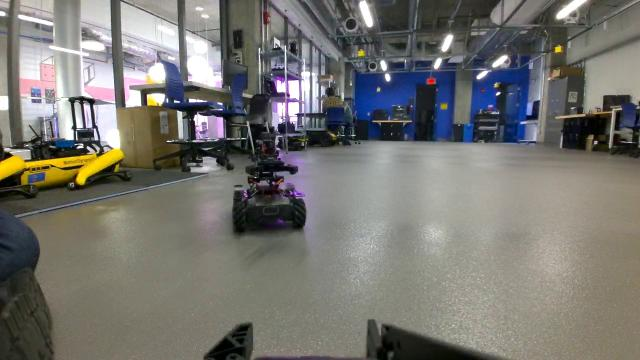robot: (226, 133, 315, 237)
